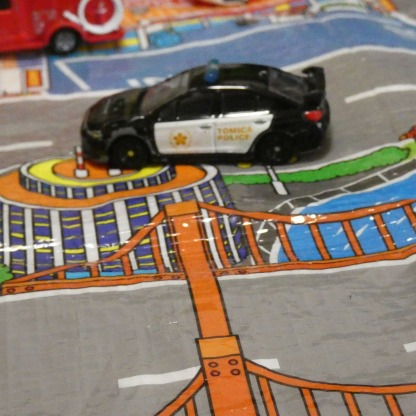car: (80, 61, 340, 169)
